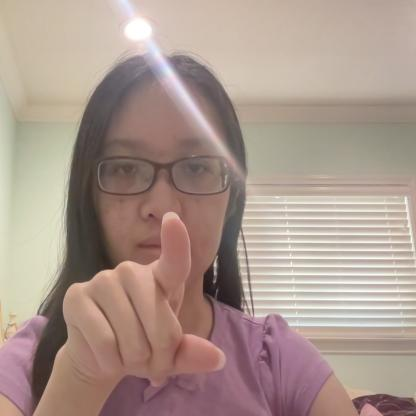finger_point: (156, 208, 192, 292)
